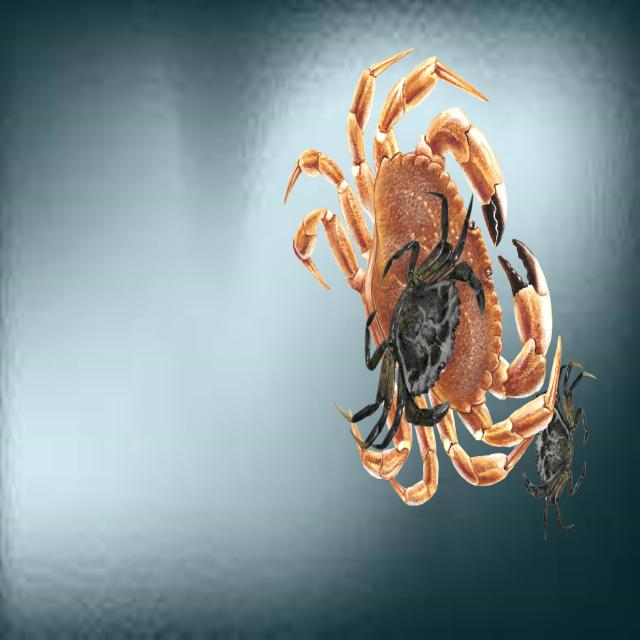European_Green_Crab: (325, 154, 520, 496), (516, 351, 598, 550)
